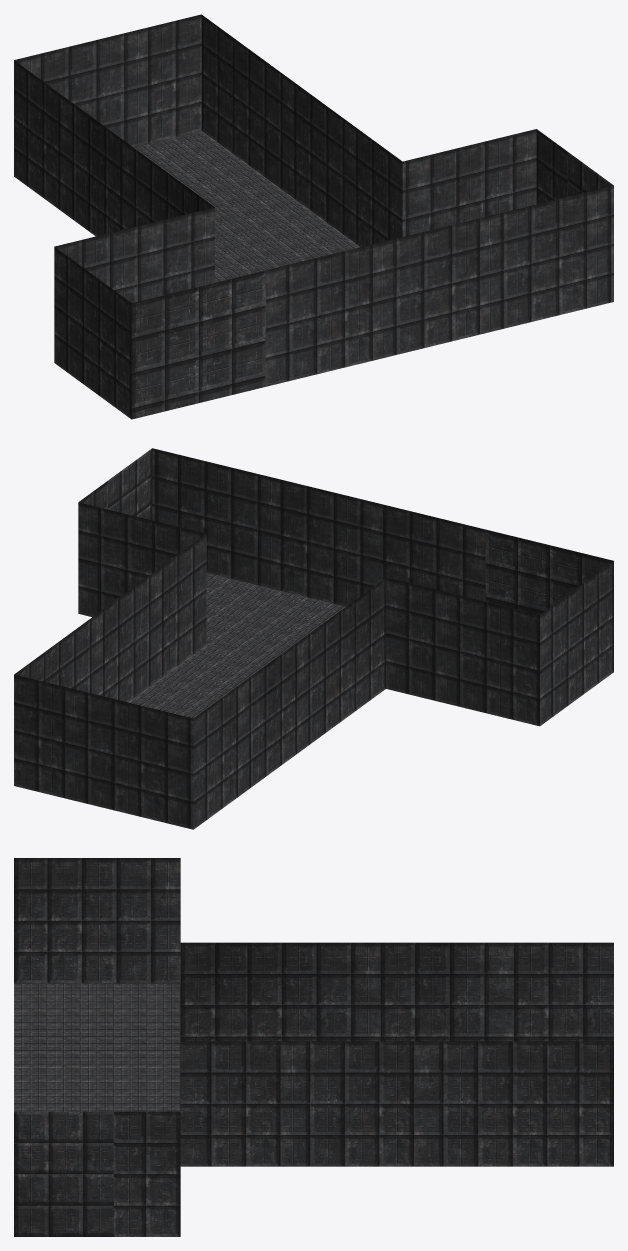
The picture shows the model from 3 angles, top to bottom: view 1: azimuth 30°, elevation 25°; view 2: azimuth 150°, elevation 25°; view 3: azimuth 270°, elevation 25°; orthographic projection. The views are drawn at different scales.
Parts seen in each view (by area): view 1: Grid; view 2: Grid; view 3: Grid.
Part boxes in pixels (x1,y1,x2,y2): Grid: (14,14,613,419); Grid: (14,448,613,829); Grid: (14,858,613,1236).
Bounding box in the file's own units: 18 × 4.15 × 18.
1 material, 1 textured.
